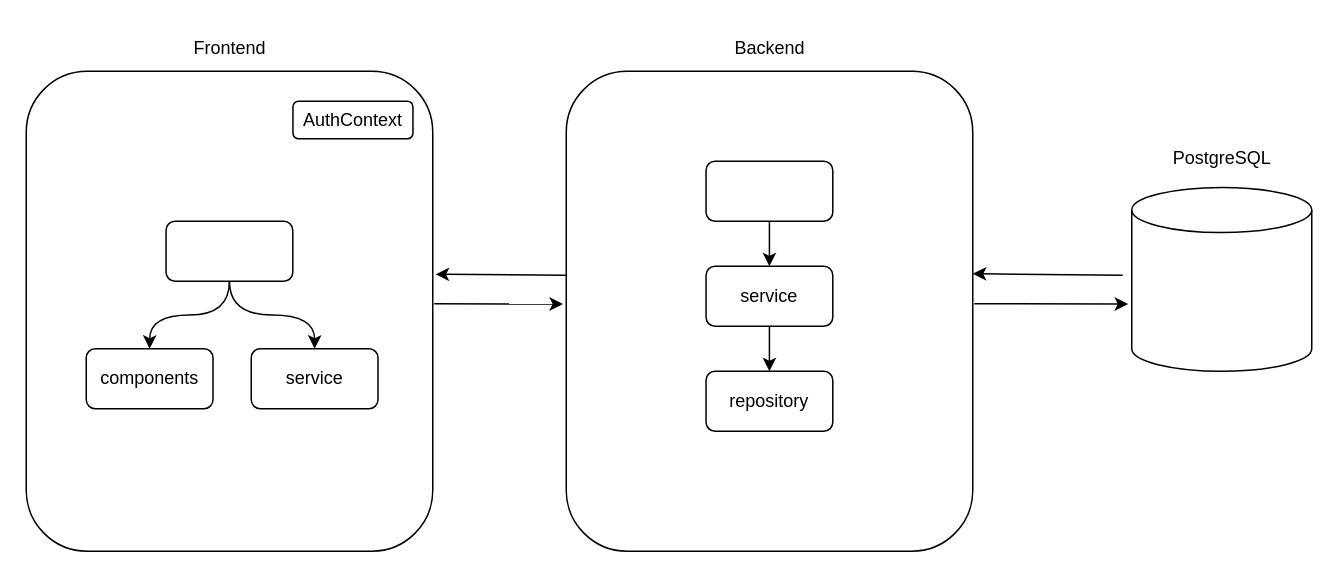
This 1338x578 diagram has some shape labels left out. The box of each missing label's shape, as (x1, y1, x2, y2) in pixels:
handlers: (705, 160, 833, 221)
pages: (165, 220, 293, 281)
